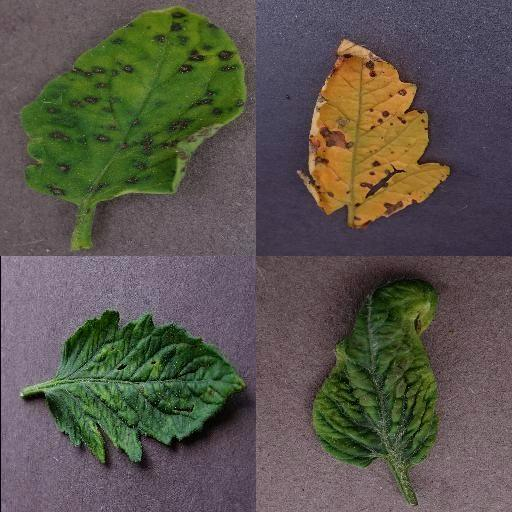Mosaic Virus: (46, 312, 248, 469)
Septoria: (20, 5, 246, 205), (299, 38, 451, 232)
Yellow Leaf Curl Virus: (311, 277, 441, 467)
